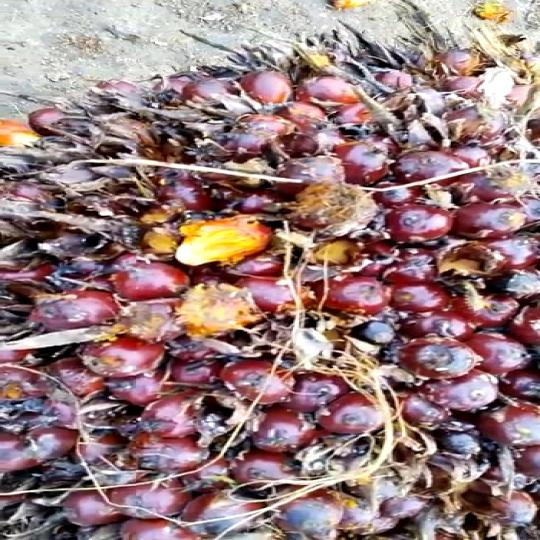masak: (0, 17, 540, 540)
